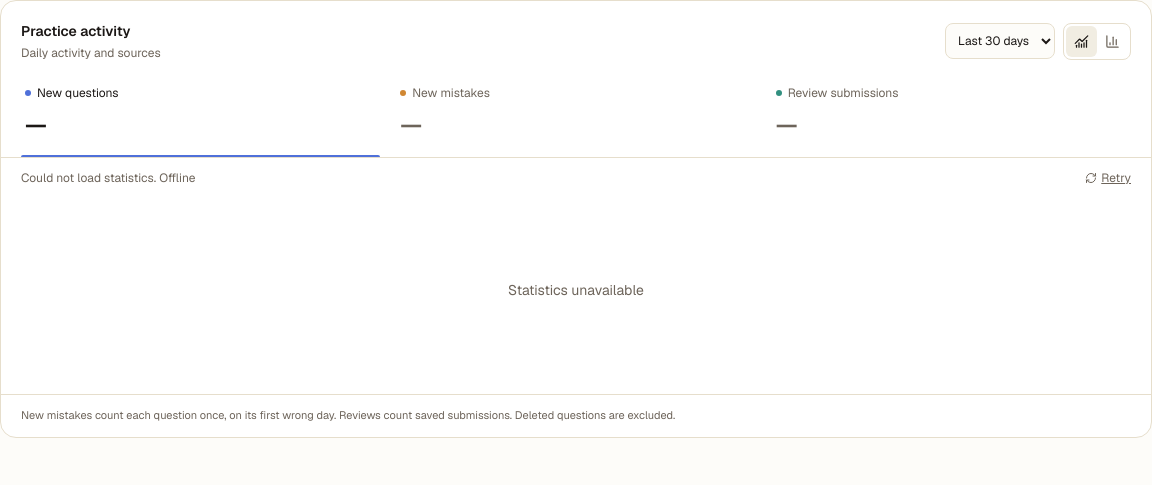
Test: shows an error and permits retry instead of presenting failed data as zero
The image size is (1152, 485).
Expected: the message "Could not load statistics. Offline Retry" is shown, [21, 170, 1131, 186]
Click the button "Retry" at (1108, 178), box [1085, 170, 1131, 186]
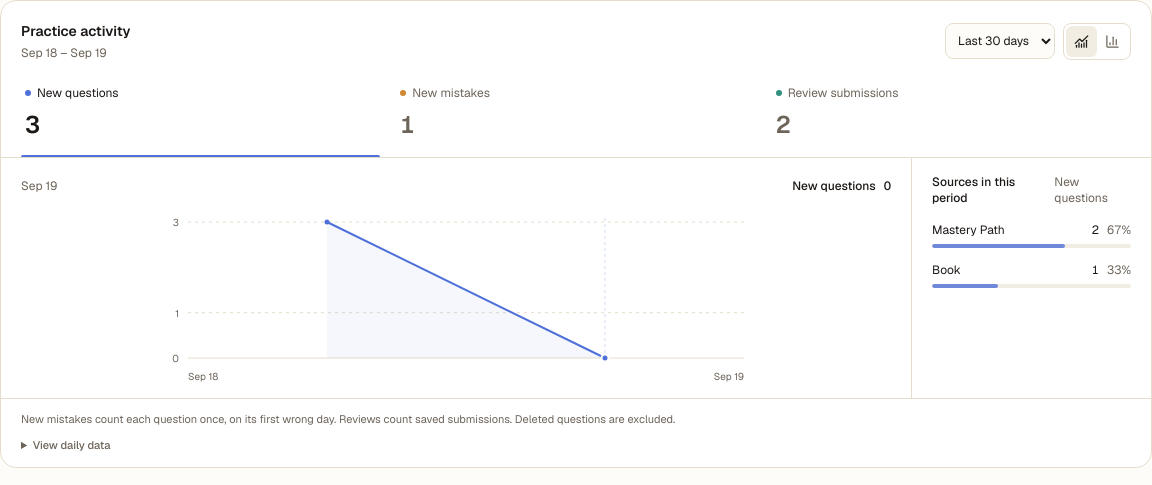
Result: the text "Mastery Path" is shown at [932, 222, 1005, 238]
Result: the message "Could not load statistics. Offline Retry" is gone
